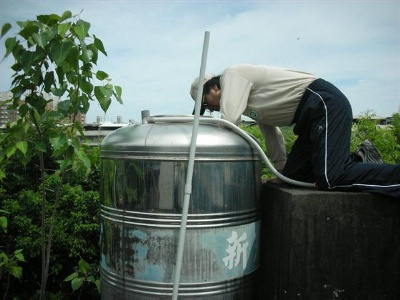water_tower: (98, 124, 263, 300)
